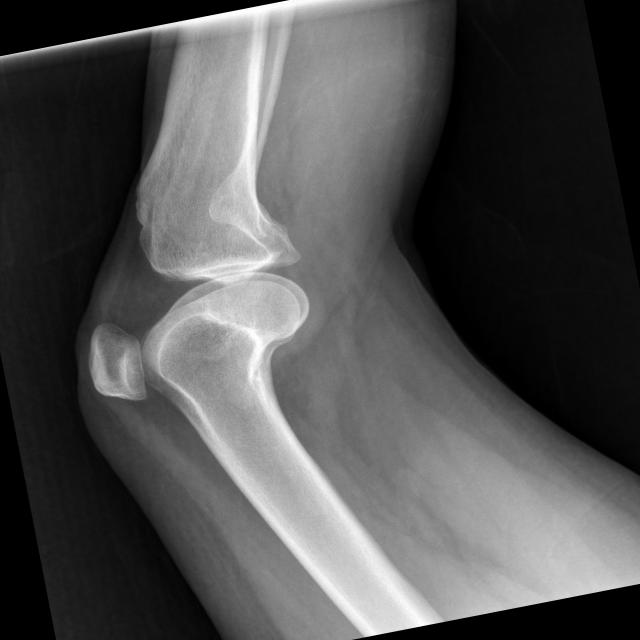Knee: (61, 188, 324, 425)
